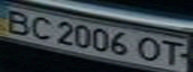0: (69, 22, 93, 51), (90, 26, 112, 53)
2: (51, 19, 75, 47)
6: (109, 29, 133, 57)
B: (0, 7, 36, 35)
C: (24, 15, 57, 42)
O: (133, 35, 163, 63)
T: (157, 38, 187, 66)
